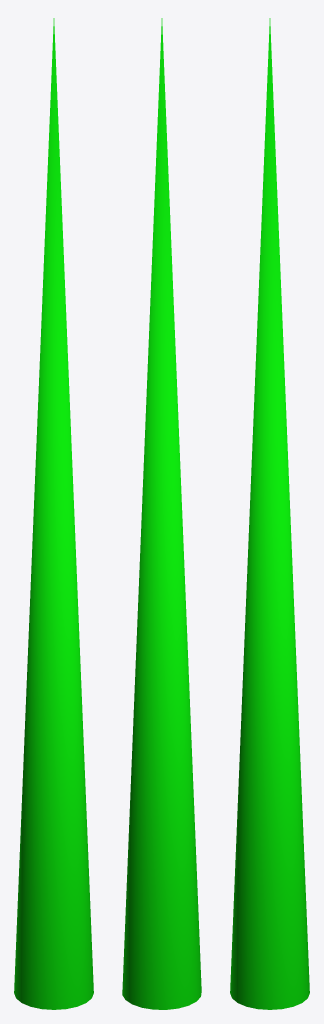
The model's file is spikes.fbx.
The picture shows the model from 3 angles, left to right: view 1: azimuth 90°, elevation 25°; view 2: azimuth 150°, elevation 25°; view 3: azimuth 270°, elevation 25°; orthographic projection.
Parts seen in each view (by area): view 1: pCone1; view 2: pCone1; view 3: pCone1.
Boxes of the visible parts, left/top/right/bottom form: pCone1: left=14, top=18, right=93, bottom=1009; pCone1: left=122, top=18, right=201, bottom=1009; pCone1: left=230, top=18, right=309, bottom=1009.
Bounding box in the file's own units: 0.9572 × 12.95 × 0.9572.
